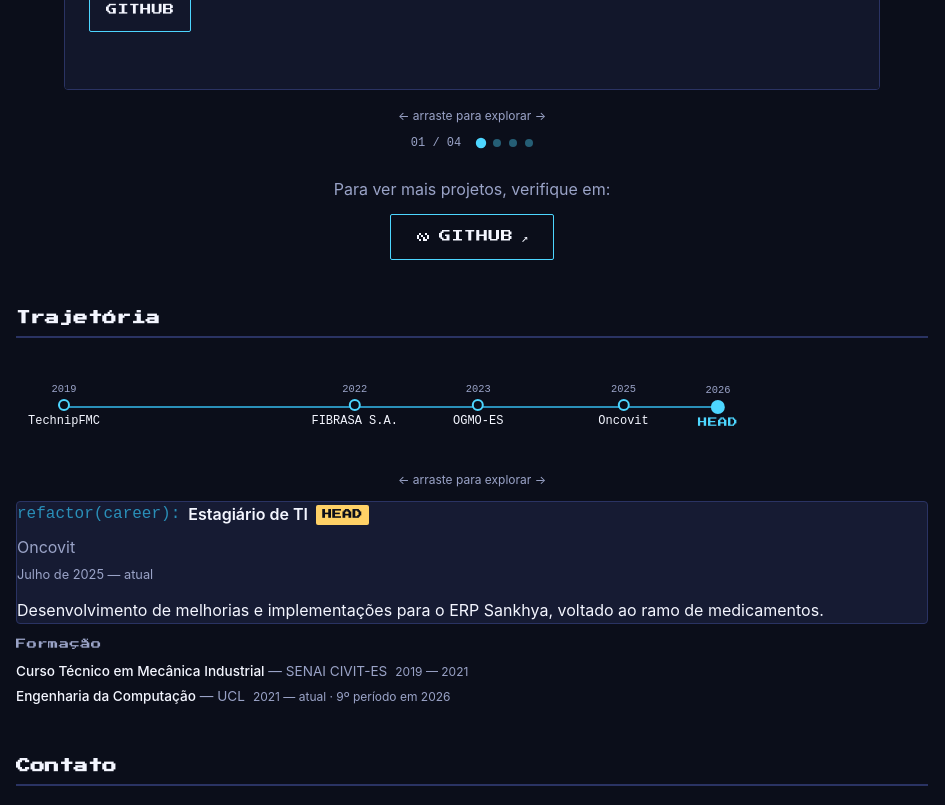
Test case: QuickMode › Trajetória › selecting an experience shows its details
(page scrolled)
Click the button "2022 FIBRASA S.A.".
click(355, 406)  # box [303, 362, 406, 450]
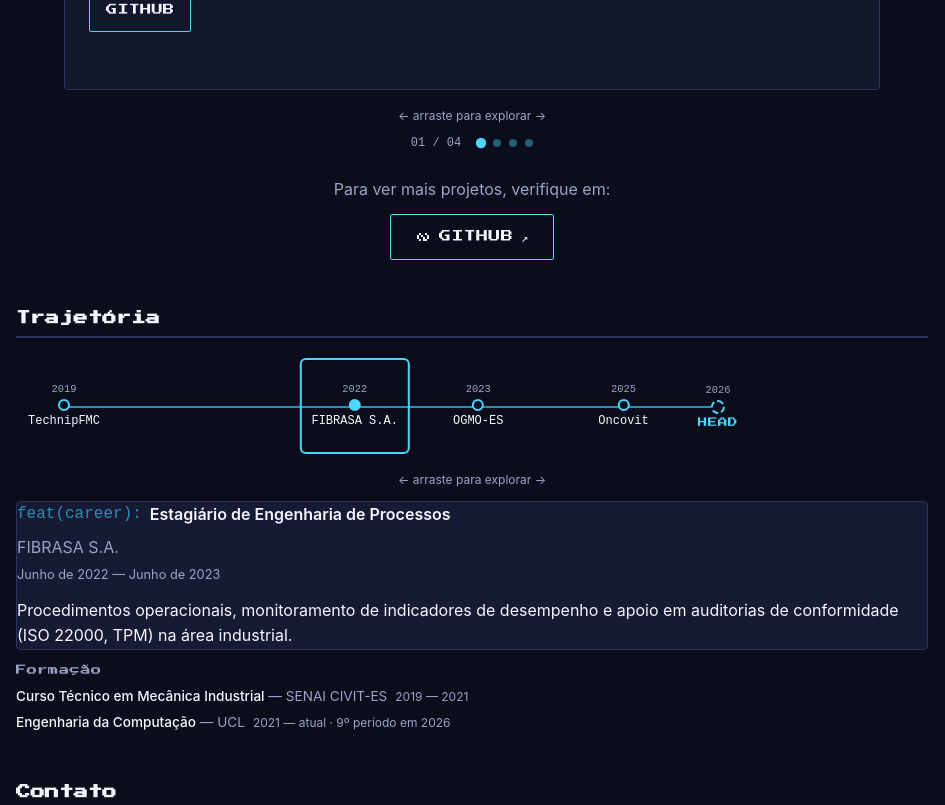
Check: the text "feat(career): Estagiário de Engenharia de Processos" is shown, box [17, 504, 450, 524]
Check: the text "Procedimentos operacionais" is shown, box [17, 600, 899, 645]
